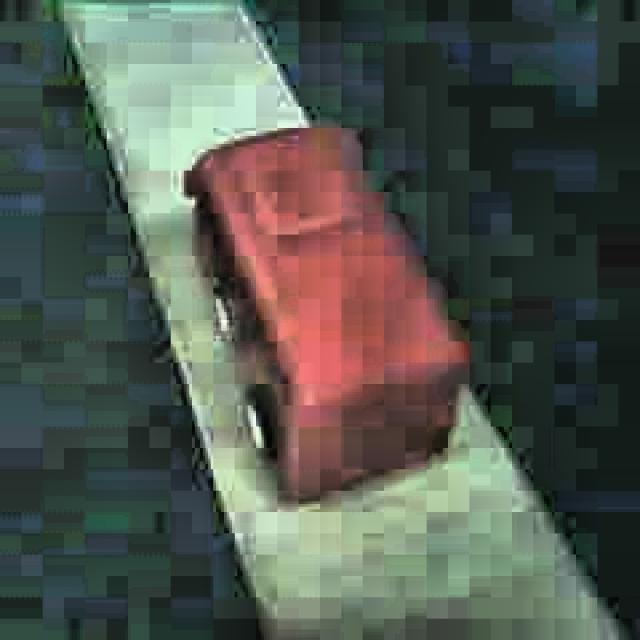bus: (180, 122, 470, 505)
